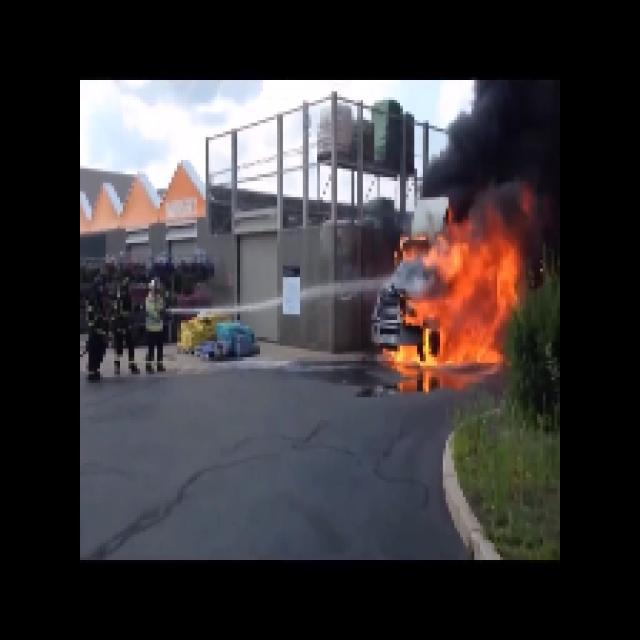Fire: (416, 246, 512, 381)
Smoke: (472, 80, 556, 205)
